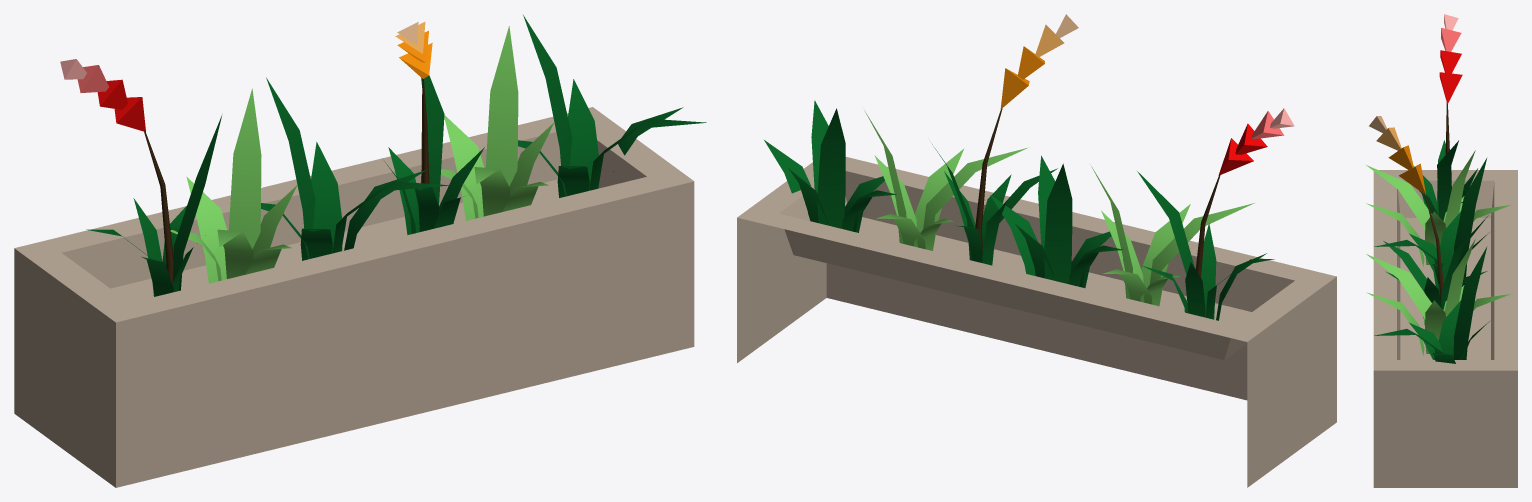
The model's file is plant_3.fbx.
3 views of the same model, side by side, from view 1: azimuth 30°, elevation 25°; view 2: azimuth 150°, elevation 25°; view 3: azimuth 270°, elevation 25° (orthographic). The views are drawn at different scales.
Parts seen in each view (by area): view 1: plant_3; view 2: plant_3; view 3: plant_3.
Boxes of the visible parts, left/top/right/bottom form: plant_3: left=14, top=15, right=706, bottom=487; plant_3: left=737, top=14, right=1336, bottom=487; plant_3: left=1366, top=14, right=1517, bottom=487.
Bounding box in the file's own units: 153 × 93.57 × 46.73.
1 material, 1 textured.
